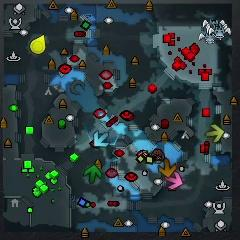p4: (29, 35, 46, 55)
x1: (163, 171, 183, 190)
x2: (206, 124, 225, 142)
x3: (93, 131, 109, 147)
x4: (84, 165, 102, 183)
x5: (158, 159, 177, 177)
